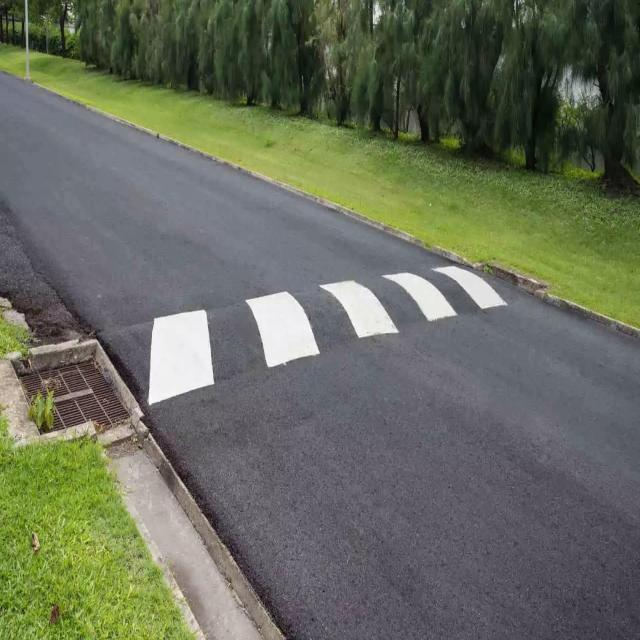Marked Bump: (123, 260, 485, 375)
